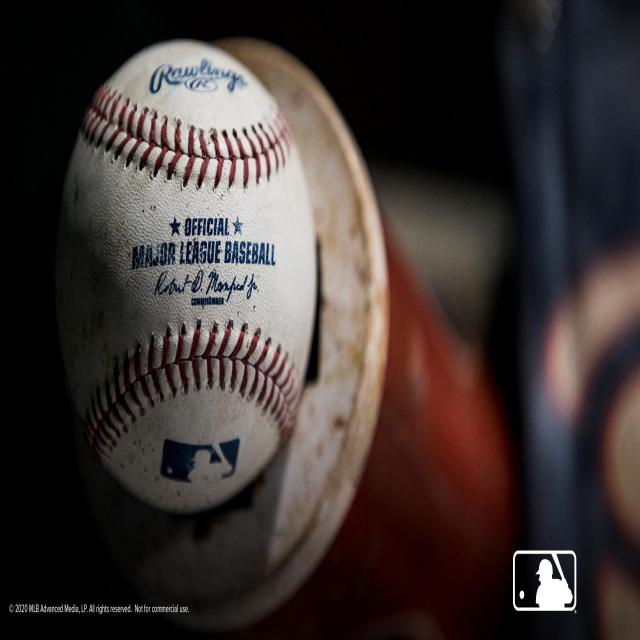baseball: (55, 42, 315, 516)
